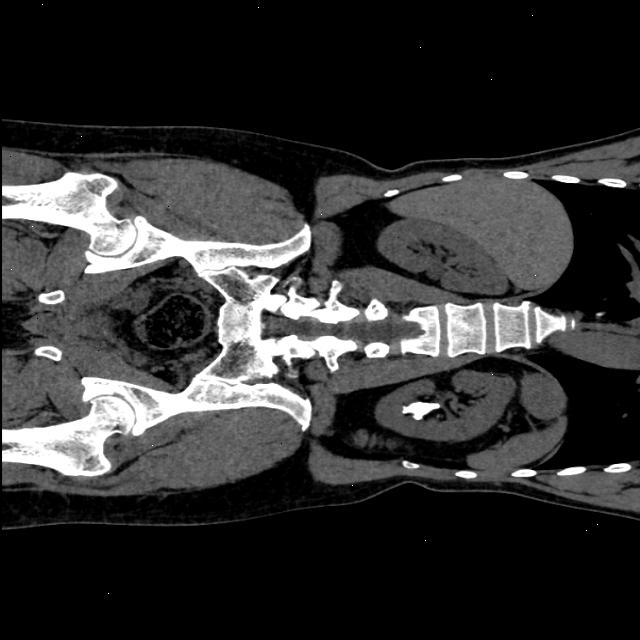kidneystone: (402, 402, 439, 420)
